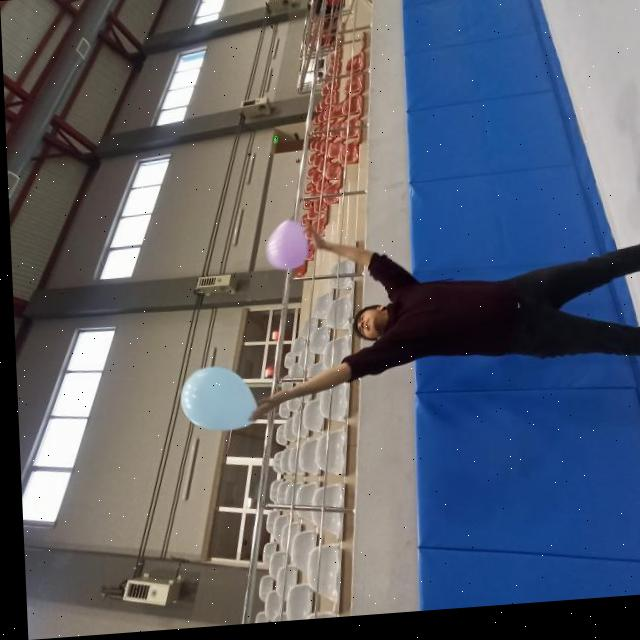balloon: (175, 367, 254, 435), (261, 221, 307, 272)
